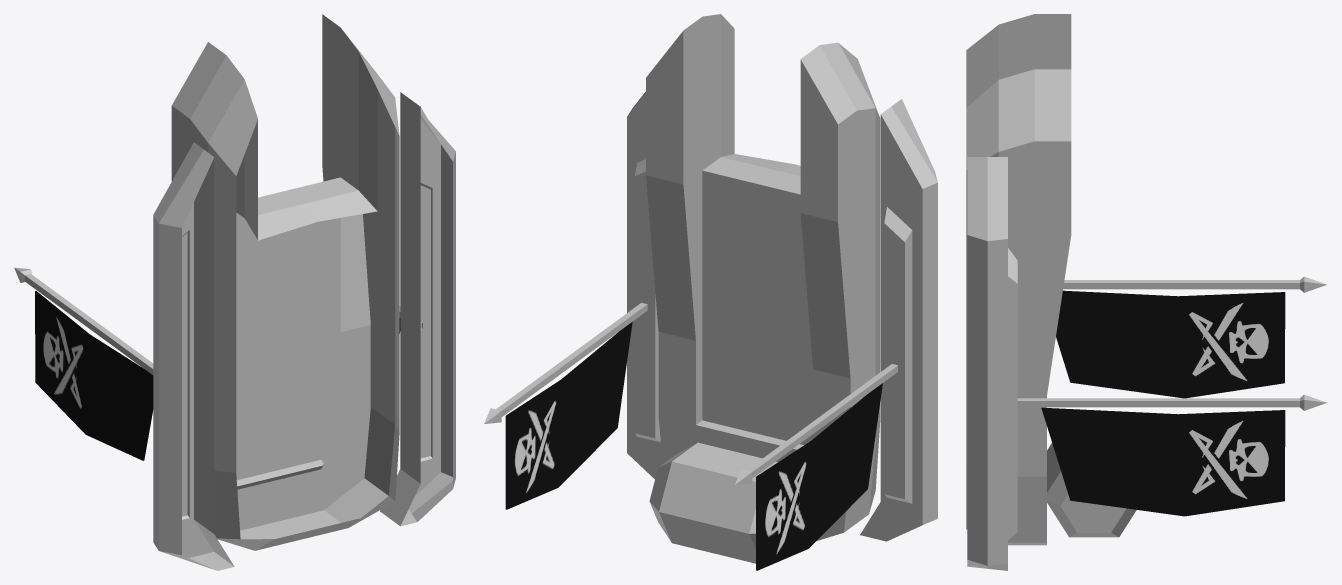
The model's file is gas_my_3_body.fbx.
The picture shows the model from 3 angles, left to right: view 1: azimuth 30°, elevation 25°; view 2: azimuth 150°, elevation 25°; view 3: azimuth 270°, elevation 25°; orthographic projection. The views are drawn at different scales.
Visible parts, largest first — view 1: Cube.433; view 2: Cube.433; view 3: Cube.433.
Boxes of the visible parts, bbox=[...] form: Cube.433: bbox=[14, 14, 455, 570]; Cube.433: bbox=[484, 14, 937, 570]; Cube.433: bbox=[966, 14, 1326, 570].
Bounding box in the file's own units: 363 × 565 × 385.
